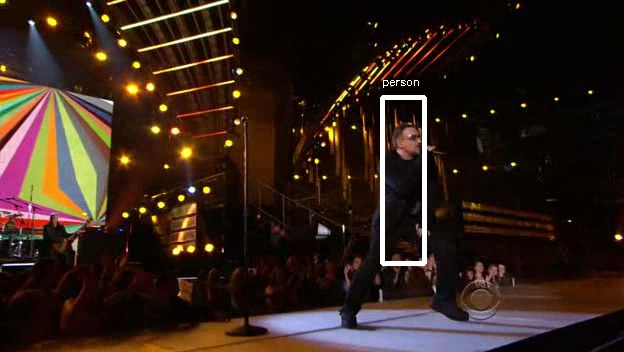person: (377, 124, 449, 254), (374, 124, 446, 254), (380, 124, 452, 254), (377, 121, 449, 251), (377, 127, 449, 257)
target_negative: (349, 113, 617, 223), (202, 62, 447, 111), (130, 65, 273, 111), (197, 179, 575, 195), (532, 282, 598, 291), (609, 296, 618, 325)
